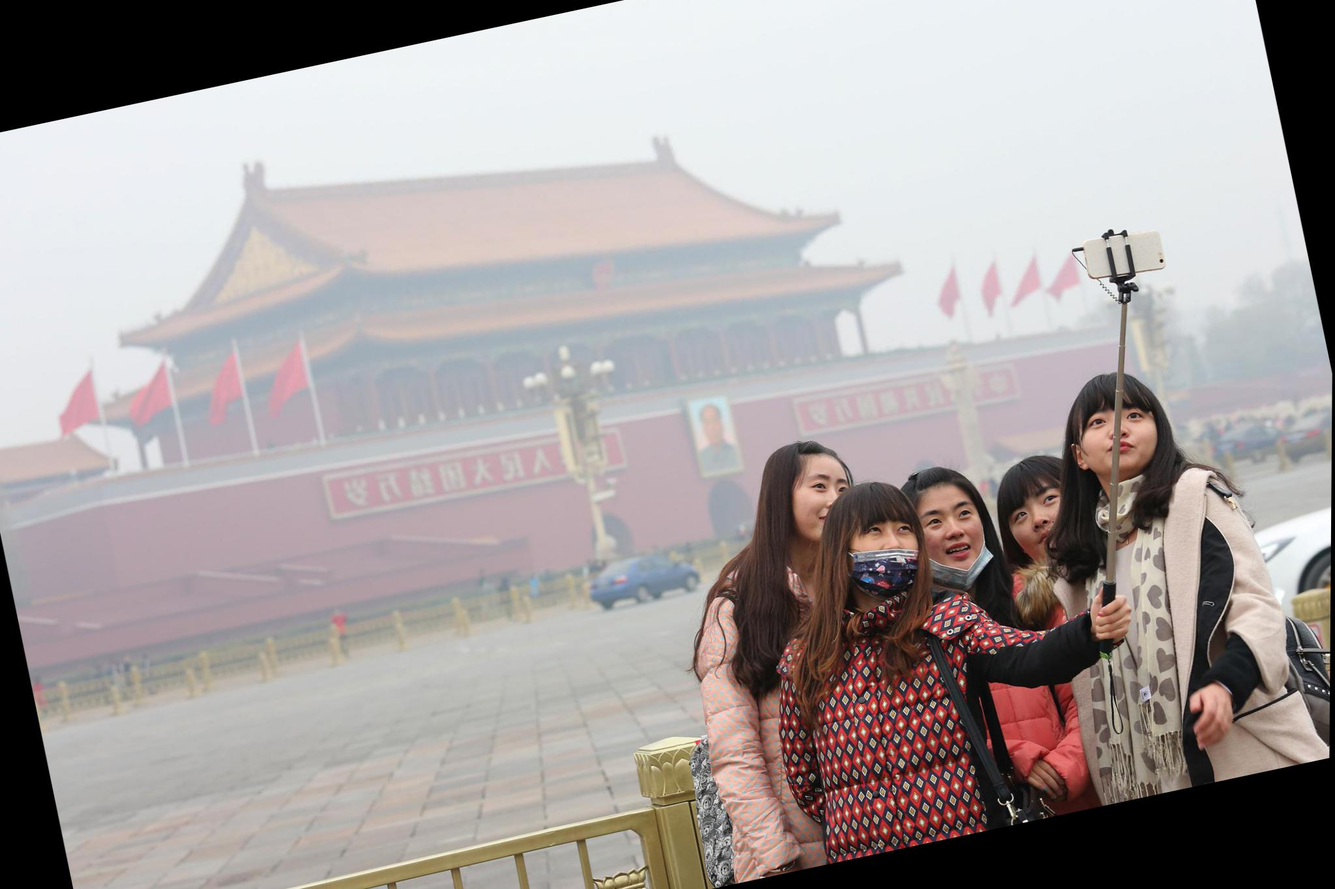NONE: (1003, 476, 1083, 566), (1078, 397, 1160, 479)
WRONG: (895, 495, 995, 594), (846, 507, 937, 597), (793, 466, 858, 542)
